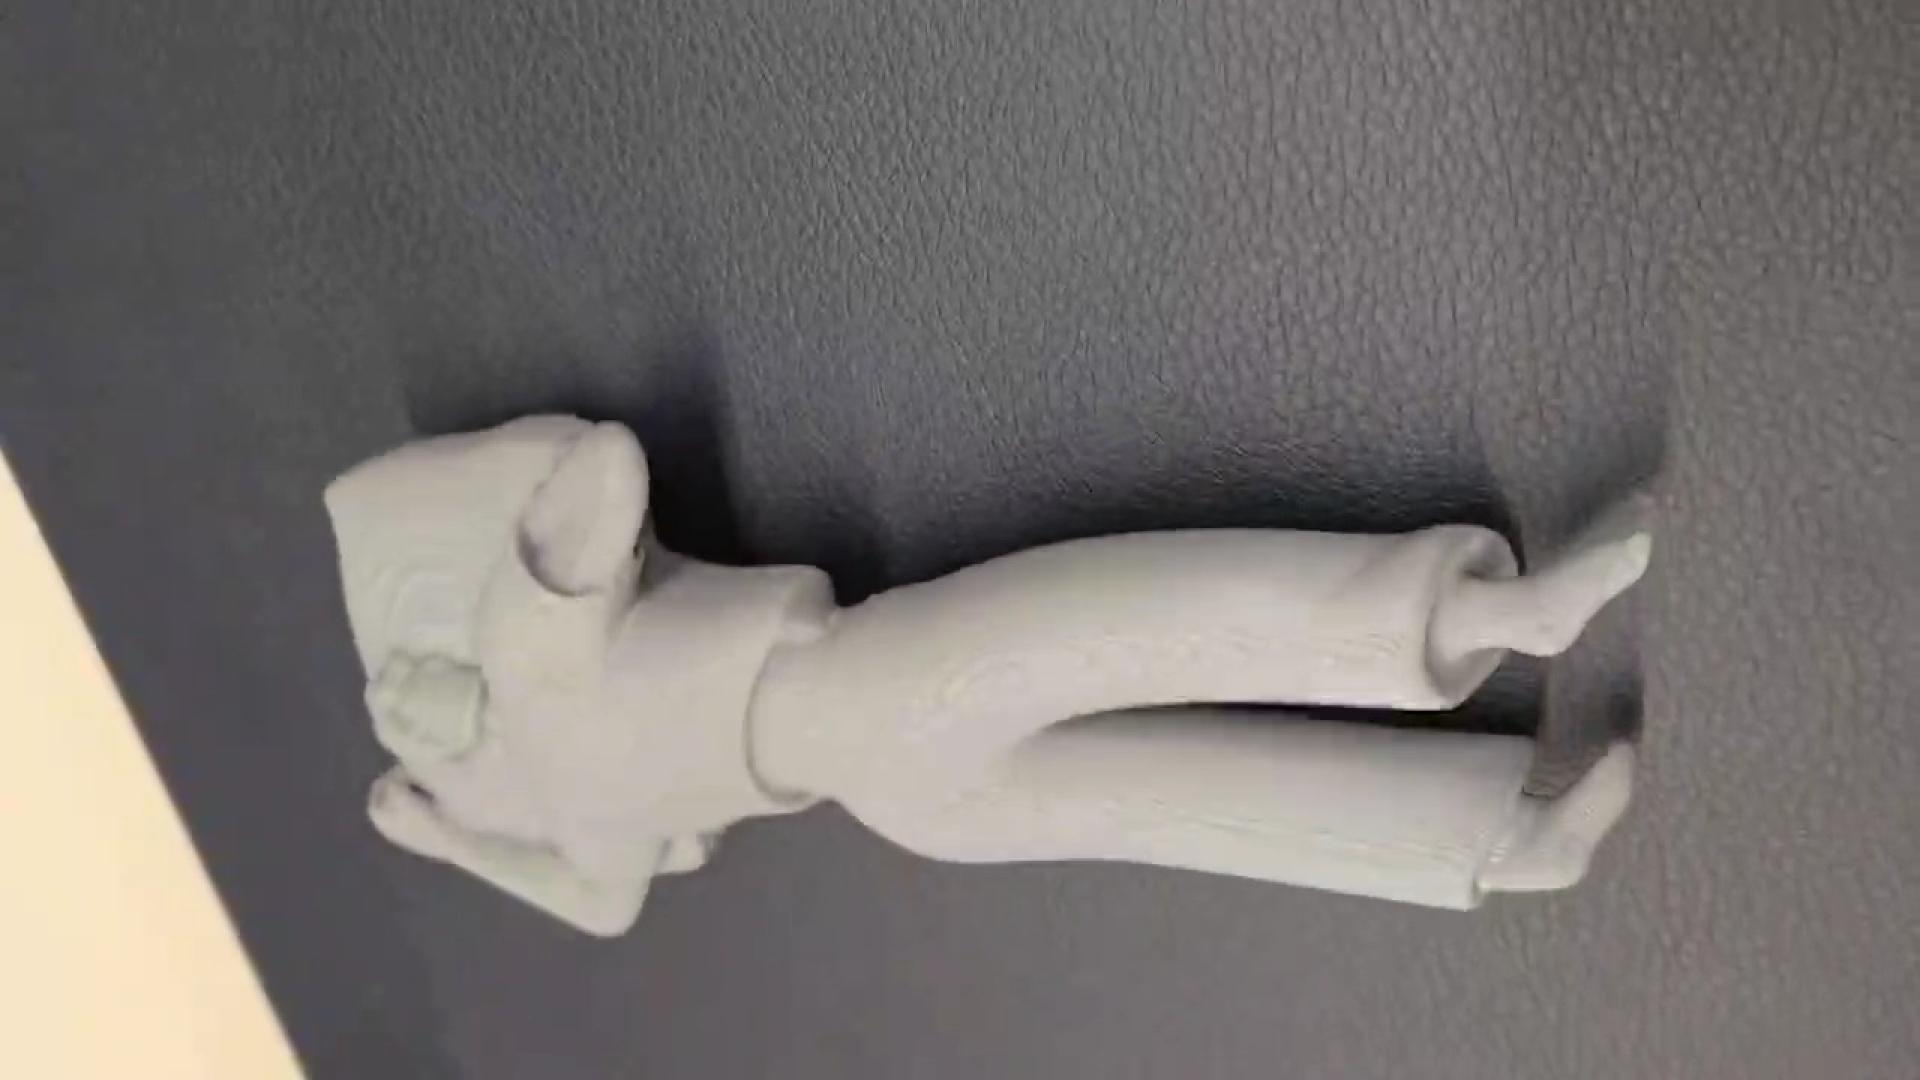Bad-style: (319, 413, 1650, 940)
